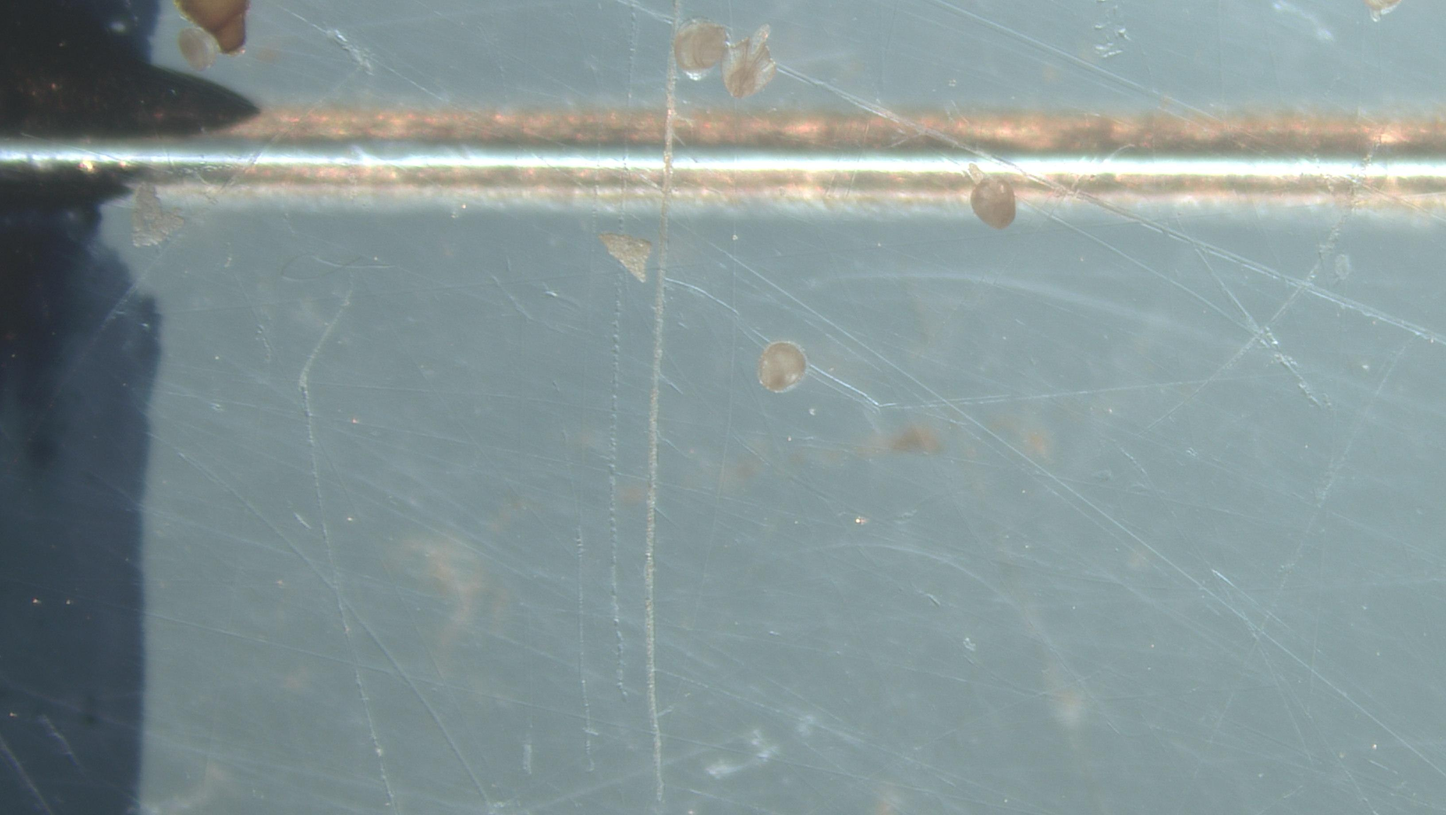live: (723, 25, 777, 98), (967, 166, 1017, 229), (673, 20, 728, 74), (758, 342, 807, 393), (178, 26, 221, 70)
